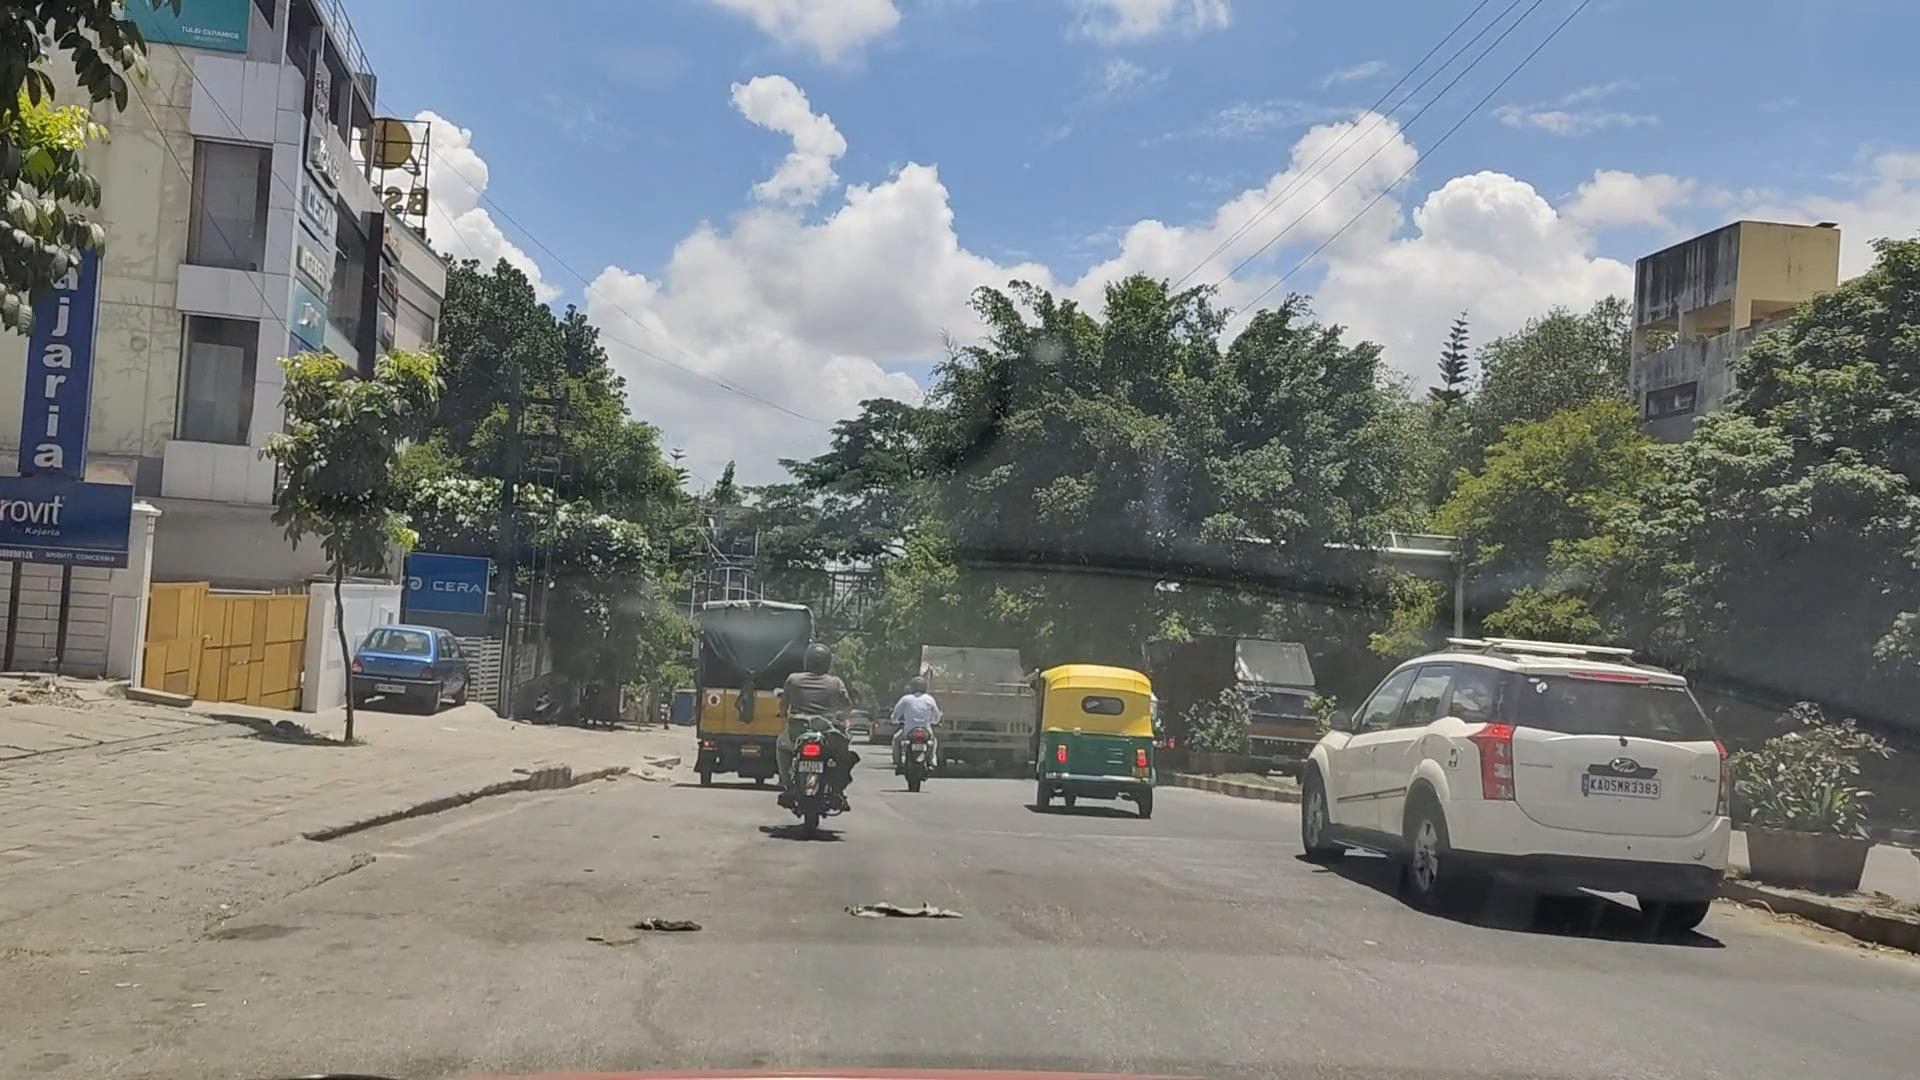HMV: (870, 603, 1047, 804), (1150, 625, 1350, 800), (674, 582, 829, 804)
